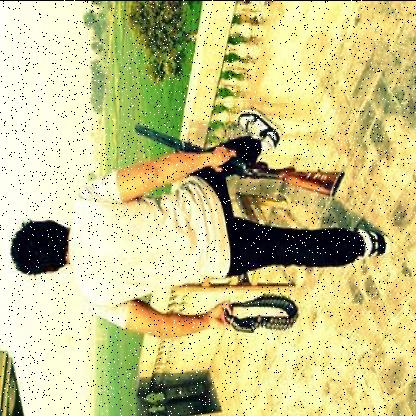rifle: (132, 120, 348, 200)
